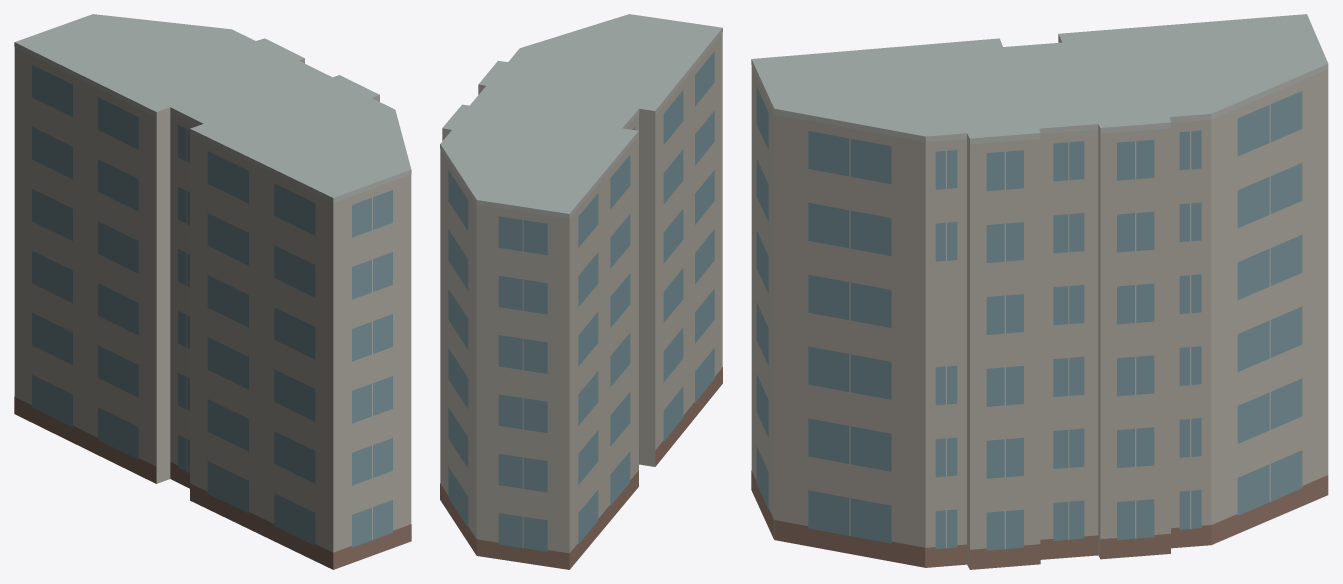
The model's file is survey-upis-32699945.glb.
3 views of the same model, side by side, from view 1: azimuth 30°, elevation 25°; view 2: azimuth 150°, elevation 25°; view 3: azimuth 270°, elevation 25° (orthographic). The views are drawn at different scales.
Visible parts, largest first — view 1: survey-upis-32699945.tmp; view 2: survey-upis-32699945.tmp; view 3: survey-upis-32699945.tmp.
Boxes of the visible parts, bbox=[...] form: survey-upis-32699945.tmp: bbox=[14, 14, 411, 569]; survey-upis-32699945.tmp: bbox=[440, 14, 722, 569]; survey-upis-32699945.tmp: bbox=[751, 14, 1328, 569].
Size of the model in its own units: 11.35 by 18.3 by 22.19.
